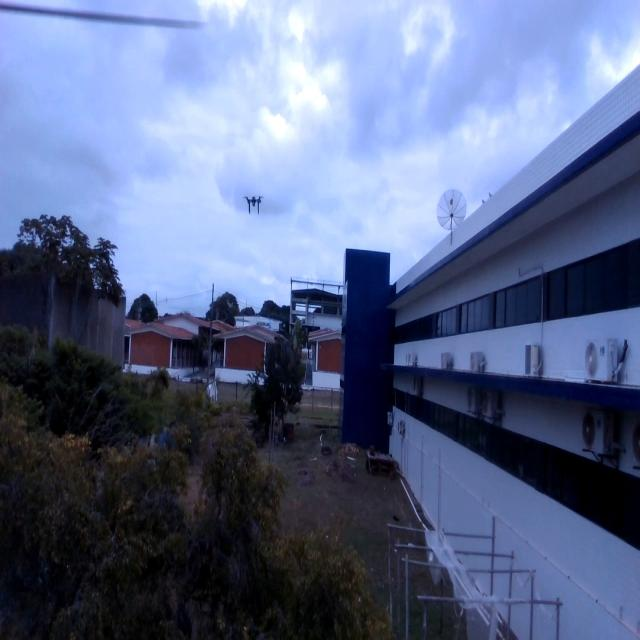-uav-: (240, 187, 267, 222)
